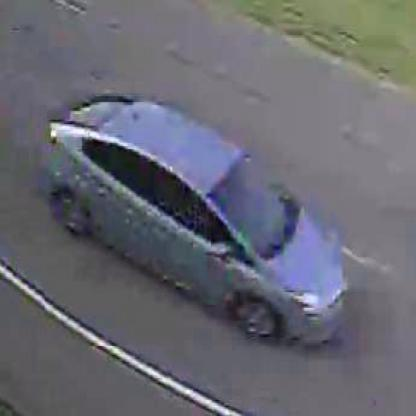car: (46, 96, 354, 348)
